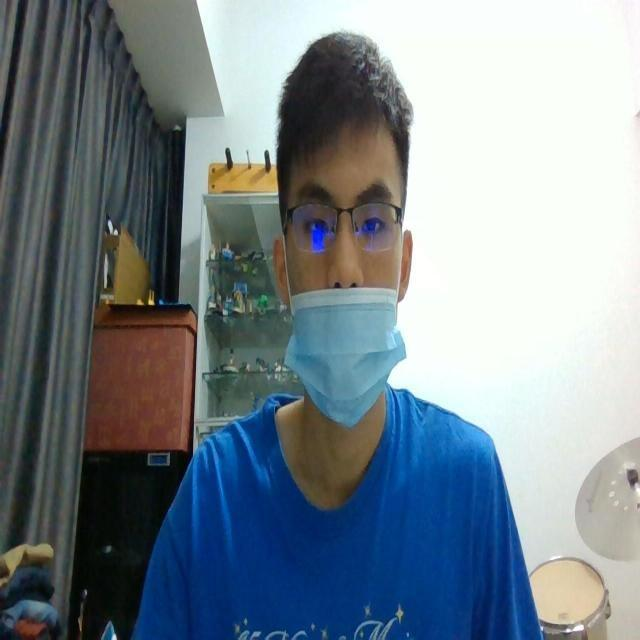hairnet: (284, 49, 402, 410)
